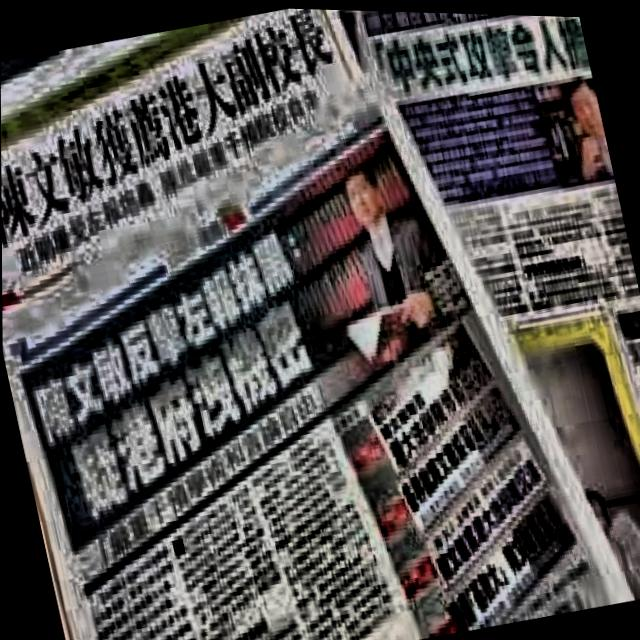Paper: (0, 0, 631, 640), (328, 8, 640, 628)
